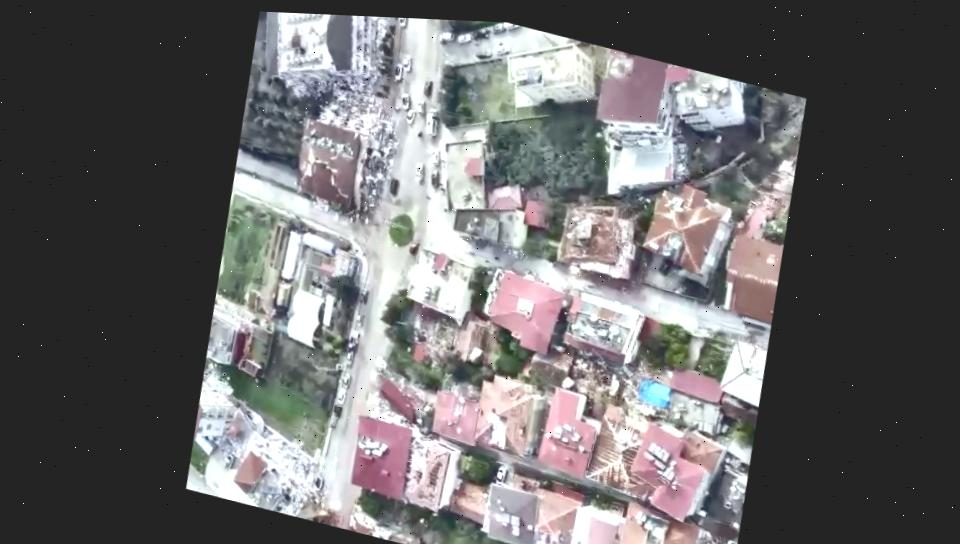kapali: (309, 469, 362, 530)
